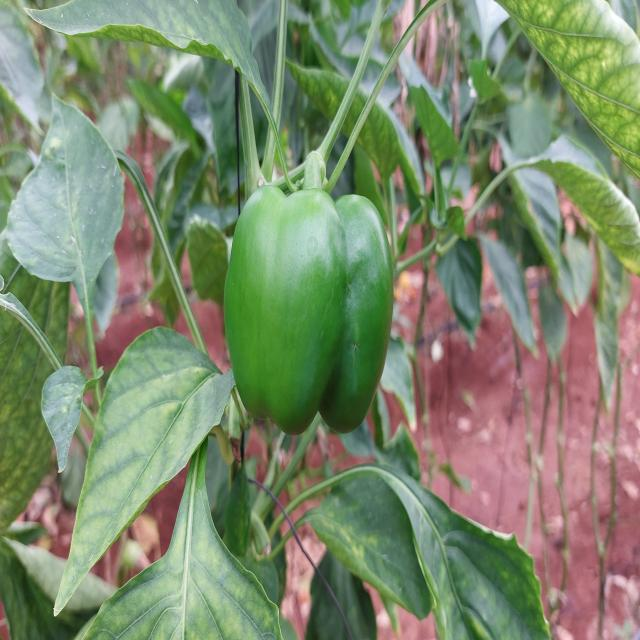Green--Not-ready-to-harvest: (220, 170, 400, 440)
